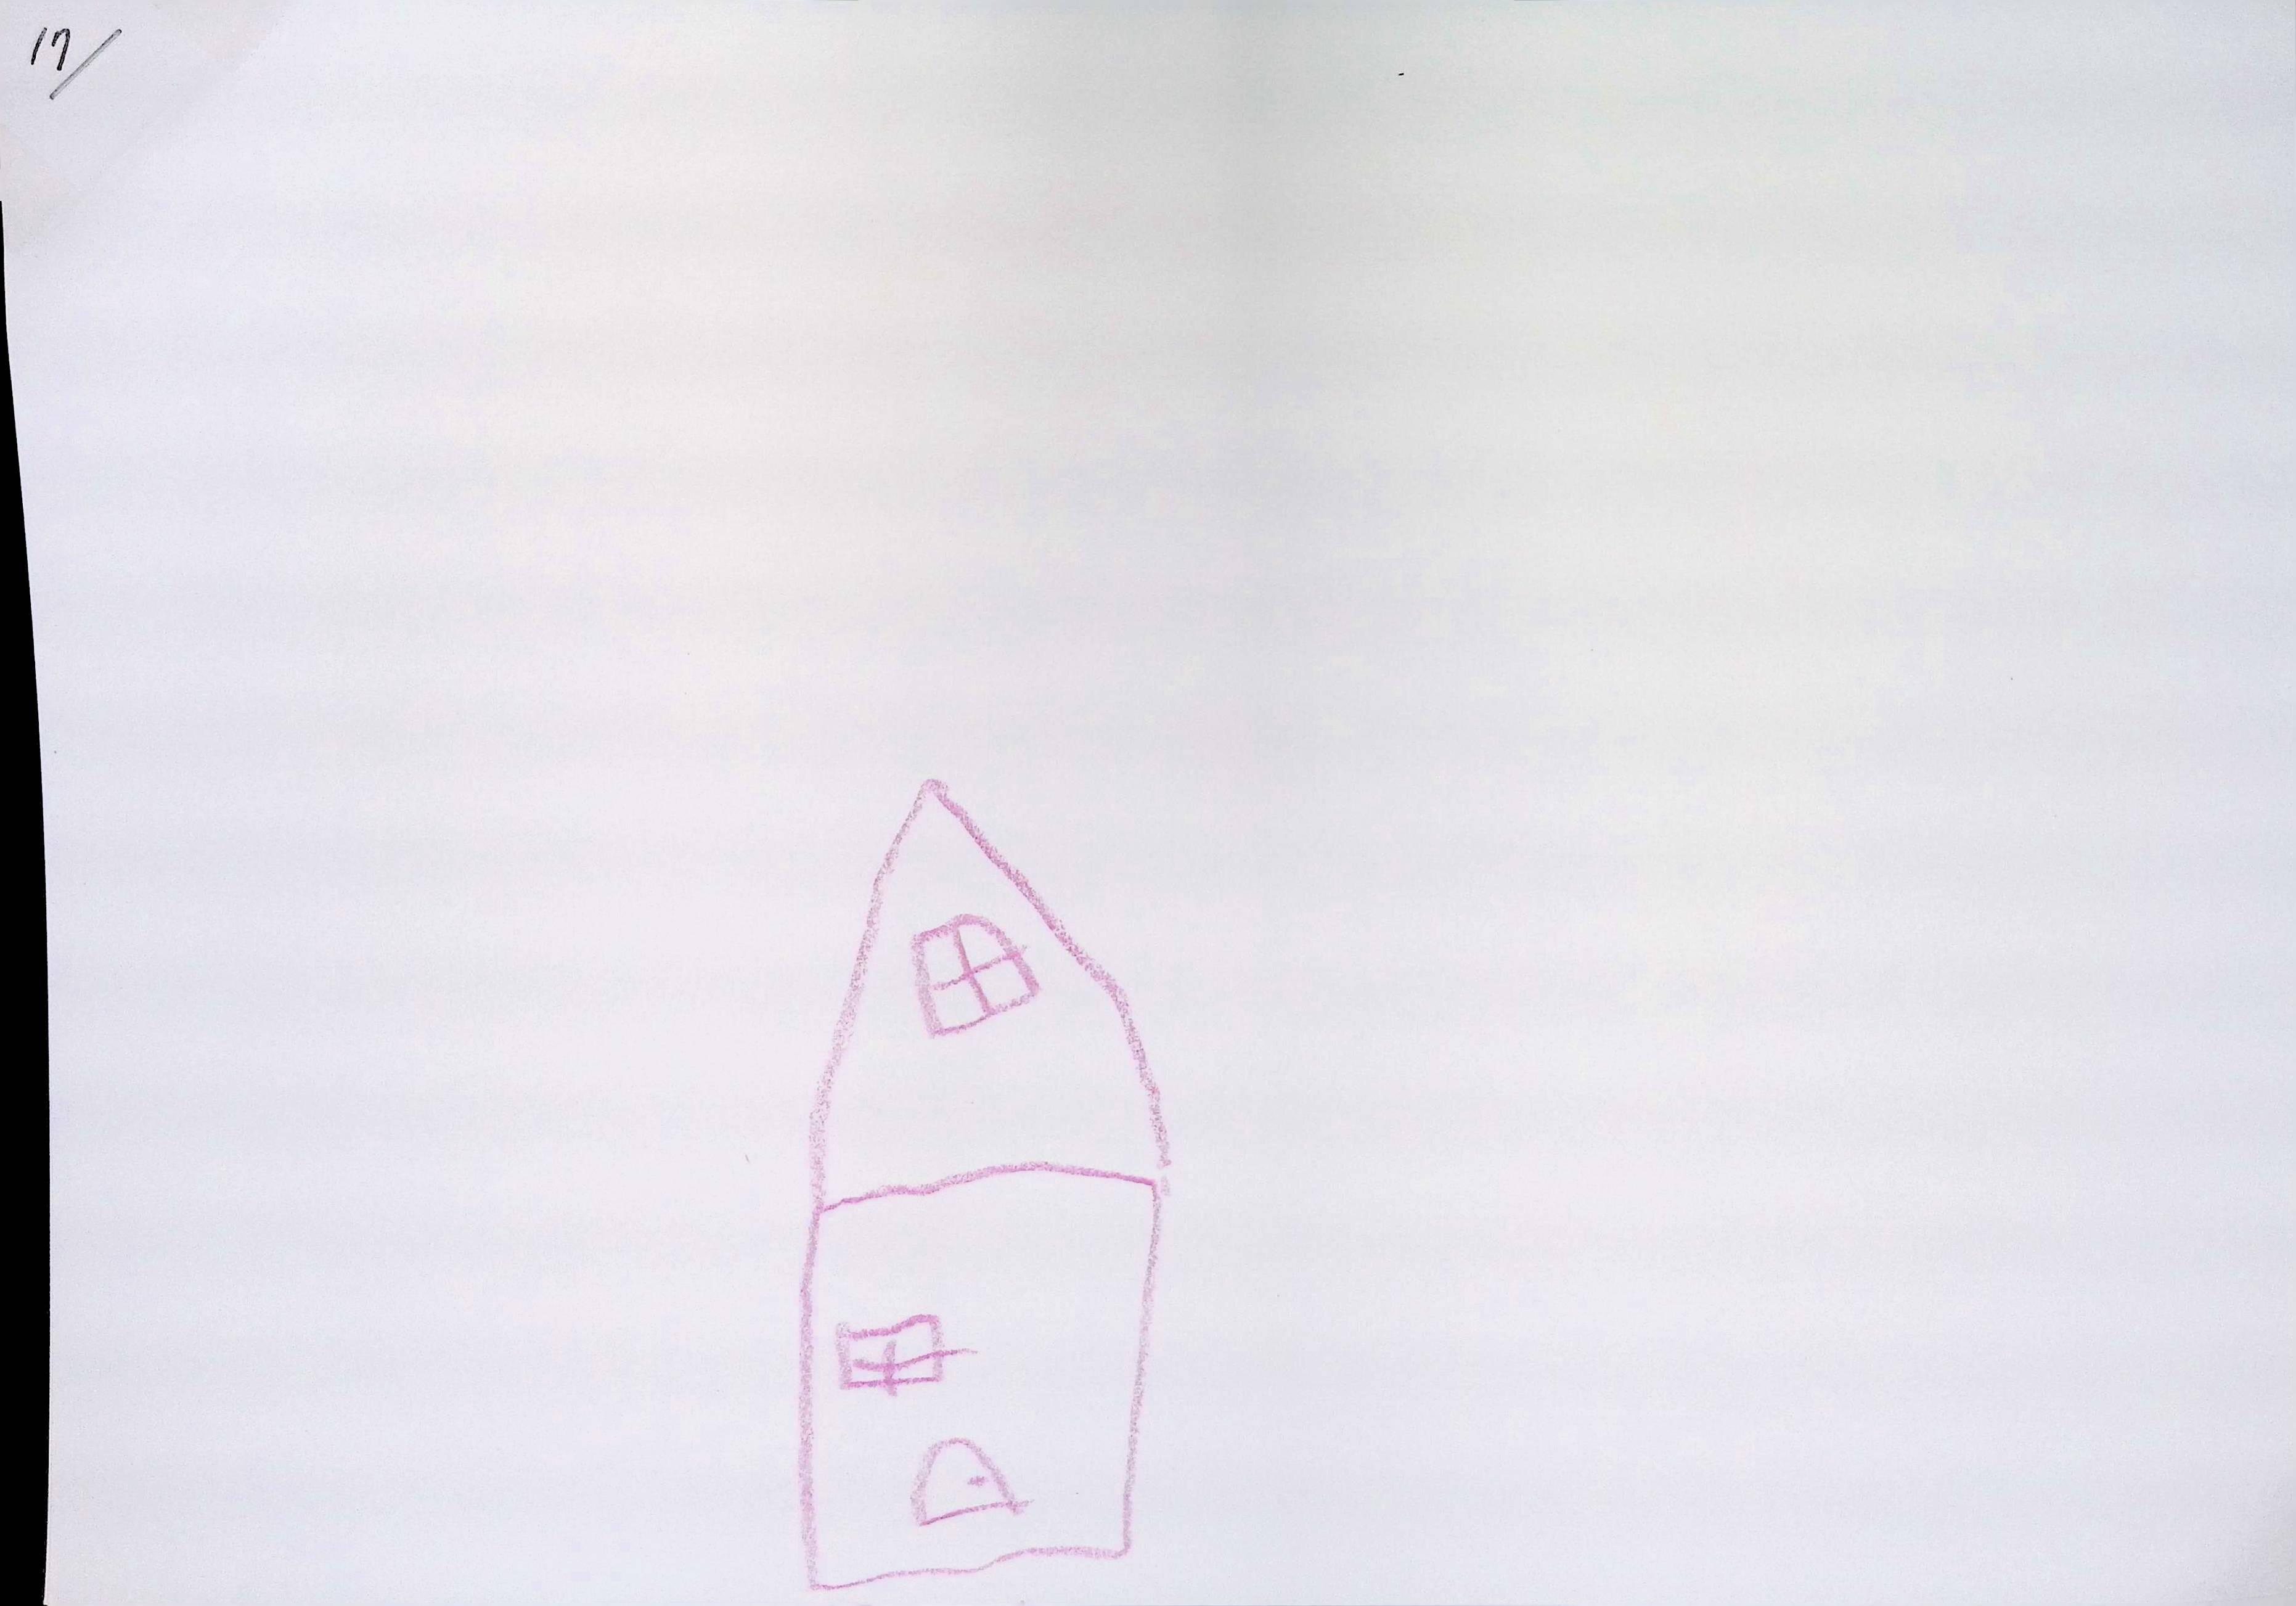door: (900, 1428, 1024, 1531)
house: (801, 780, 1167, 1590)
roof: (818, 787, 1164, 1204)
wall: (806, 1168, 1157, 1589)
window: (912, 913, 1038, 1035), (836, 1314, 939, 1397)
